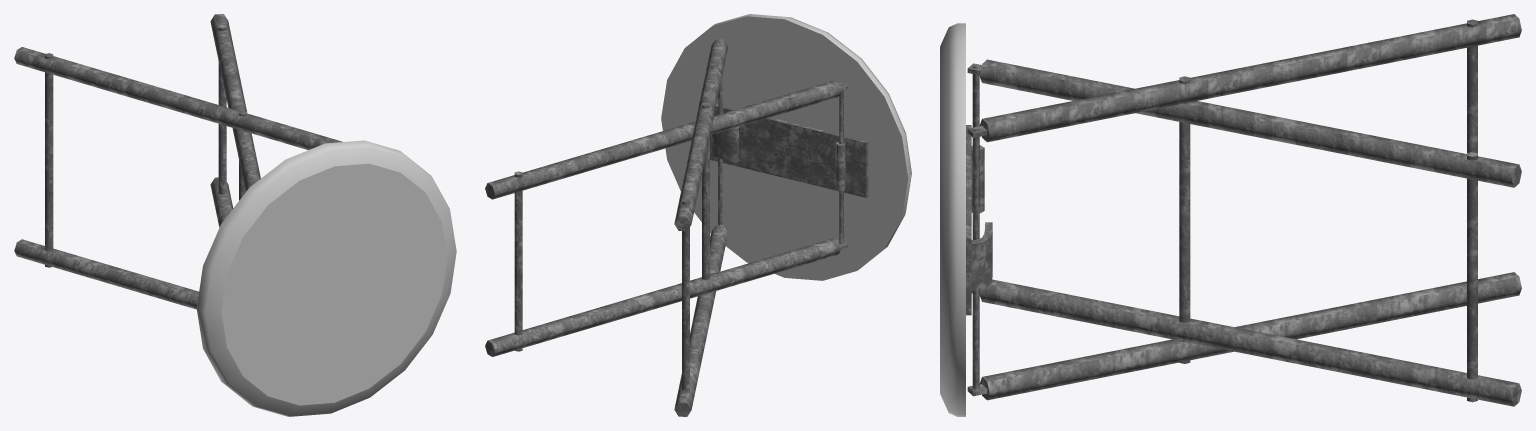
Rendered from Taburetka.fbx.
3 views of the same model, side by side, from view 1: azimuth 30°, elevation 25°; view 2: azimuth 150°, elevation 25°; view 3: azimuth 270°, elevation 25° (orthographic). The views are drawn at different scales.
Visible parts, largest first — view 1: Cylinder, Regroup0; view 2: Cylinder, Regroup0; view 3: Regroup0, Cylinder.
Boxes of the visible parts, <box> form: Cylinder: <box>196,140,456,416</box>; Regroup0: <box>14,14,342,309</box>; Cylinder: <box>661,14,911,280</box>; Regroup0: <box>485,39,868,416</box>; Regroup0: <box>966,14,1521,406</box>; Cylinder: <box>940,23,965,416</box>.
Size of the model in its own units: 87.75 by 87.75 by 129.
